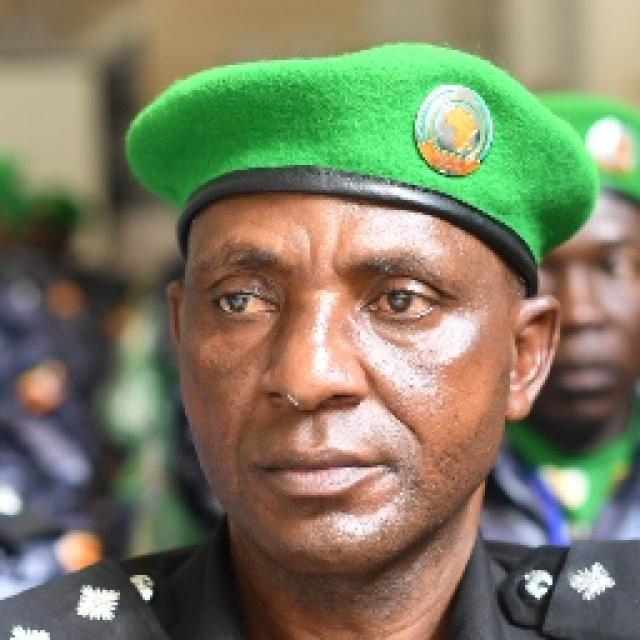earlobe: (505, 394, 533, 421)
eye: (211, 284, 279, 321), (368, 286, 440, 320)
nose: (260, 396, 365, 440)
wholeear: (505, 296, 563, 422), (165, 283, 188, 377)
